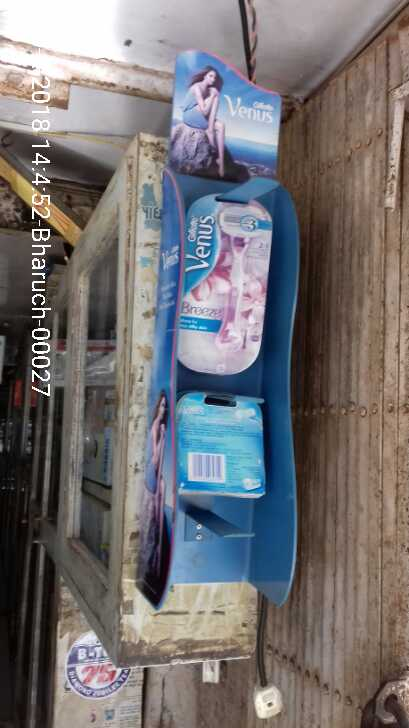venus: (178, 198, 277, 379)
